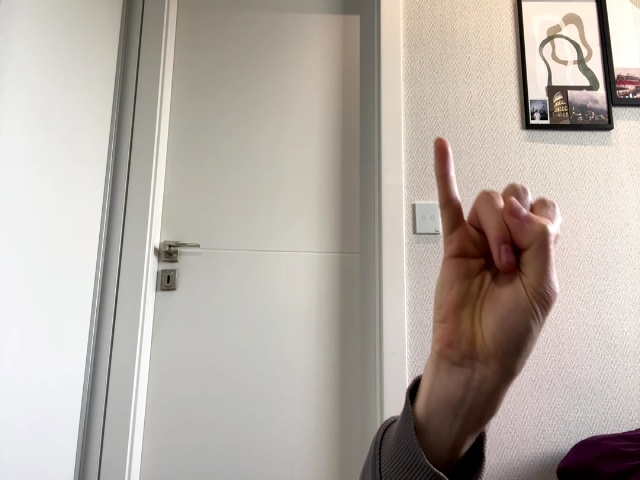I: (433, 138, 562, 377)
